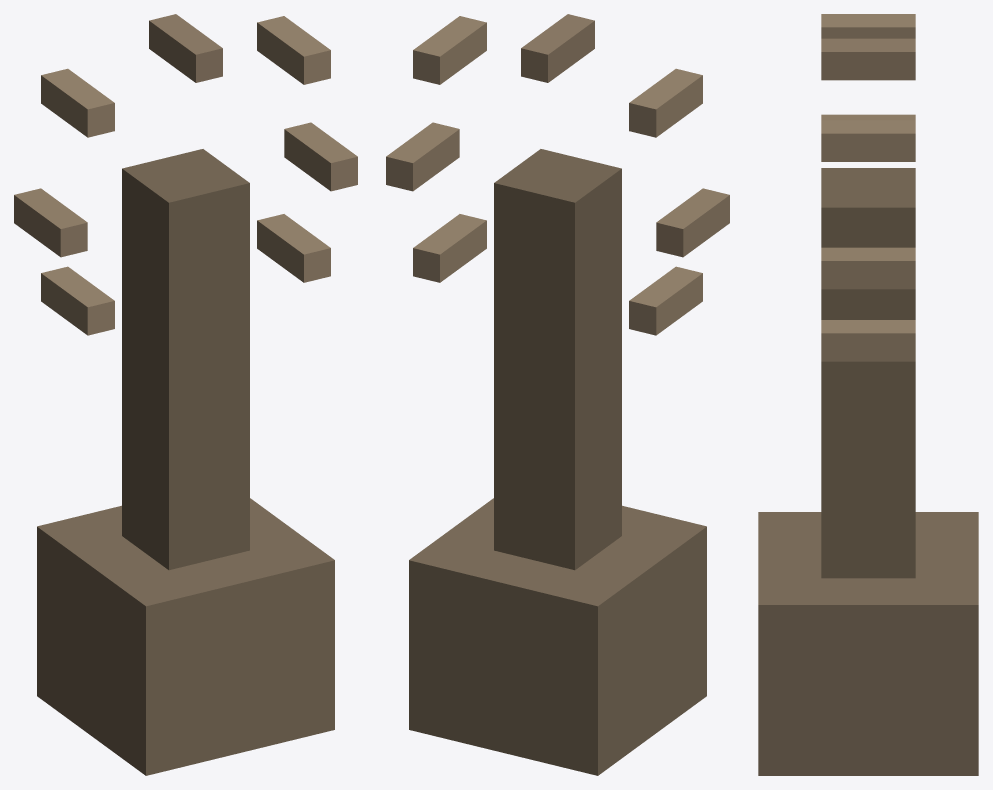
The model's file is rueca_desgastada_01.glb.
The picture shows the model from 3 angles, left to right: view 1: azimuth 30°, elevation 25°; view 2: azimuth 150°, elevation 25°; view 3: azimuth 270°, elevation 25°; orthographic projection.
Parts seen in each view (by area): view 1: rueca_desgastada; view 2: rueca_desgastada; view 3: rueca_desgastada.
Boxes of the visible parts, left/top/right/bottom form: rueca_desgastada: left=14, top=14, right=357, bottom=775; rueca_desgastada: left=386, top=14, right=729, bottom=775; rueca_desgastada: left=758, top=14, right=978, bottom=775.
Bounding box in the file's own units: 0.7333 × 1.6 × 0.4667.
